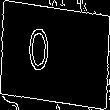O_S: (44, 28, 66, 82)
